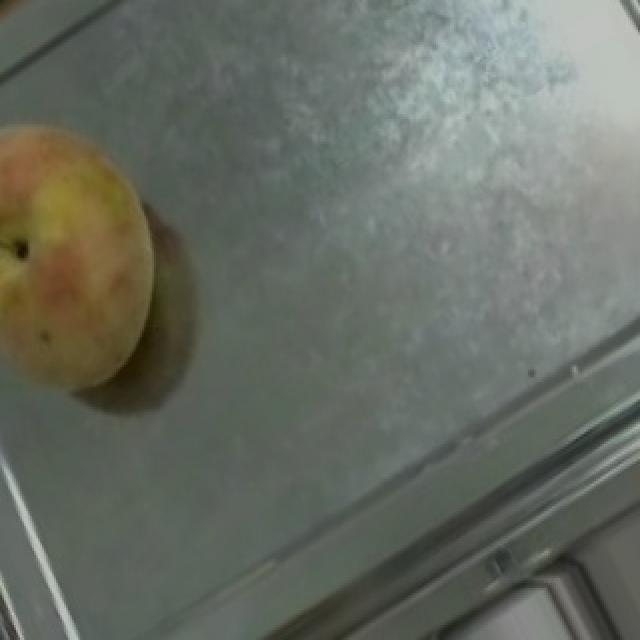Fruit: (2, 77, 198, 429)
